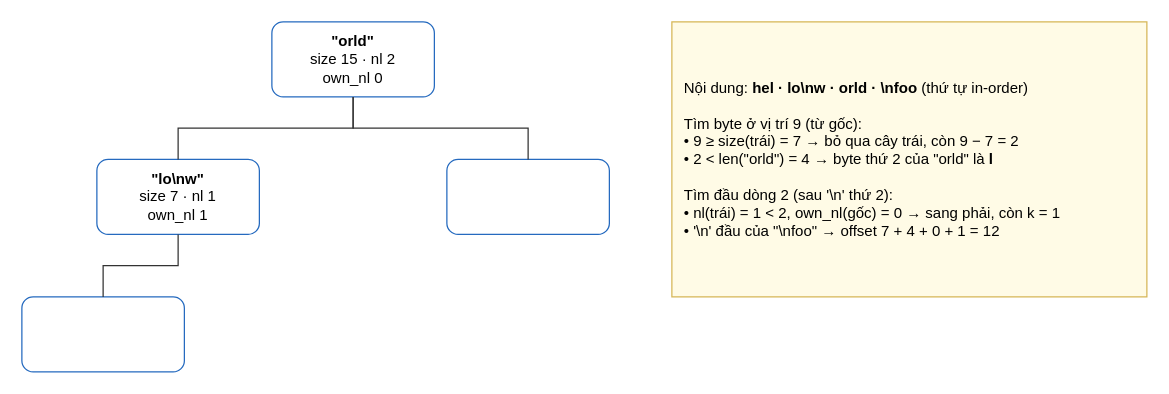
This 1169x394 diagram has some shape labels left out. Each missing label, with the box of its shape:
"\nfoo" size 4 · nl 1 own_nl 1: (446, 158, 609, 234)
"hel" size 3 · nl 0 own_nl 0: (21, 296, 184, 372)
